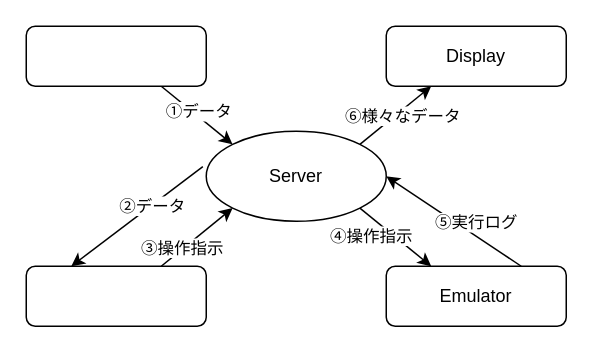
The diagram is 593 pixels wide and 353 high, and some of its shapes have lost their labels. Here are the shapes that lost their labels. From the top down, the centre of each, then its label:
At (x=115, y=55): "Sensor".
At (x=115, y=295): "Controller".
